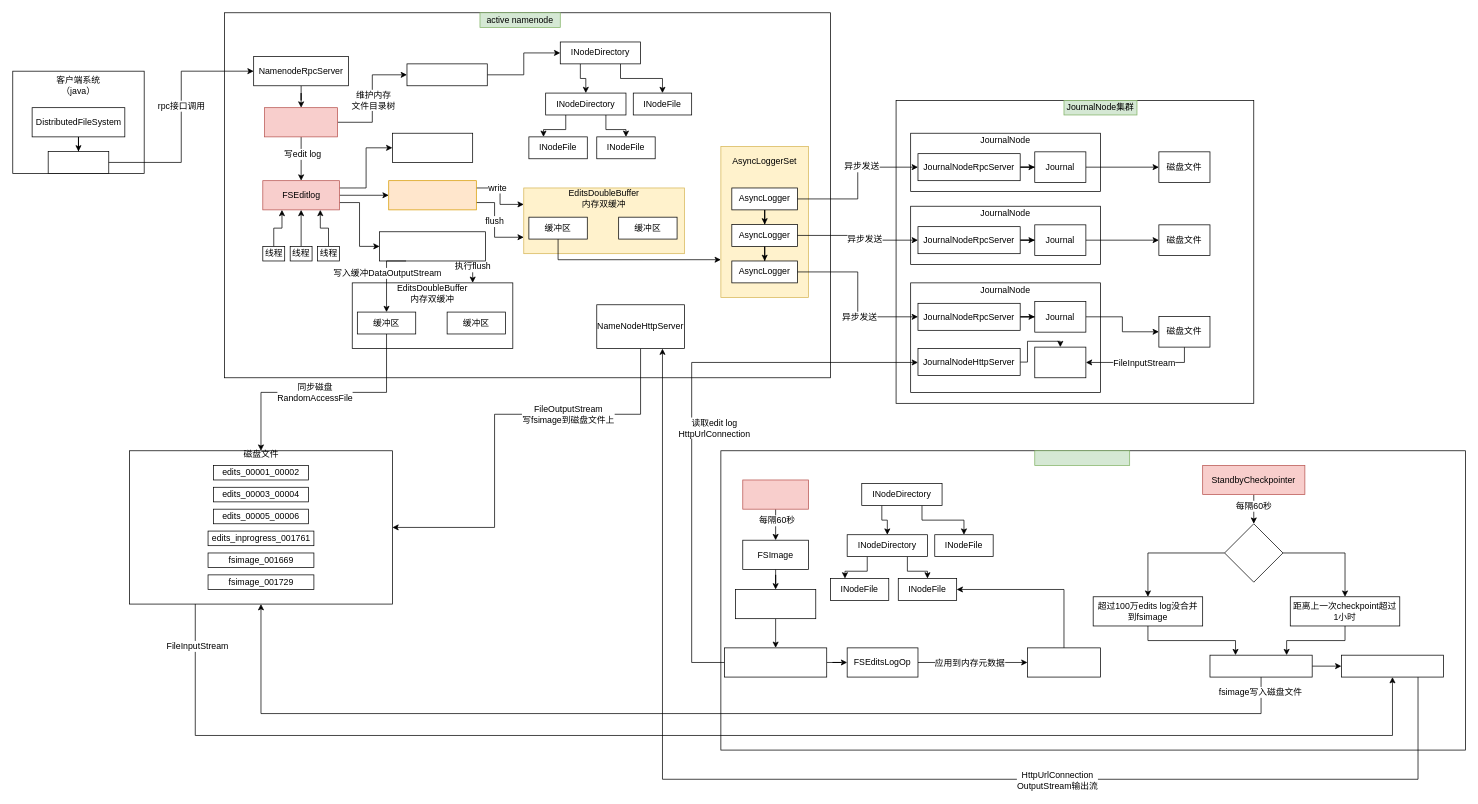
Some shapes in this 1478 by 804 pixel diagram are drawn without their labels. Here are the shapes that lost their labels. From the top down, the centre of each, then its label:
At (x=446, y=74): "FSDirectory".
At (x=301, y=122): "FSNamesystem".
At (x=78, y=162): "DFSClient".
At (x=432, y=147): "分配全局唯一的transactionId".
At (x=432, y=195): "QuorumOutputStream".
At (x=432, y=246): "EditLogFileOutputStream".
At (x=1060, y=362): "response .getOutputStream()".
At (x=1082, y=457): "standby namenode".
At (x=775, y=494): "EditLogTailer".
At (x=1253, y=552): "是否要执行checkpoint".
At (x=775, y=604): "FSEditLogLoader".
At (x=775, y=662): "EditLogFileInputStream".
At (x=1063, y=662): "FSDirtectory".
At (x=1260, y=665): "执行checkpoint操作".
At (x=1392, y=665): "TransferFsImage".
